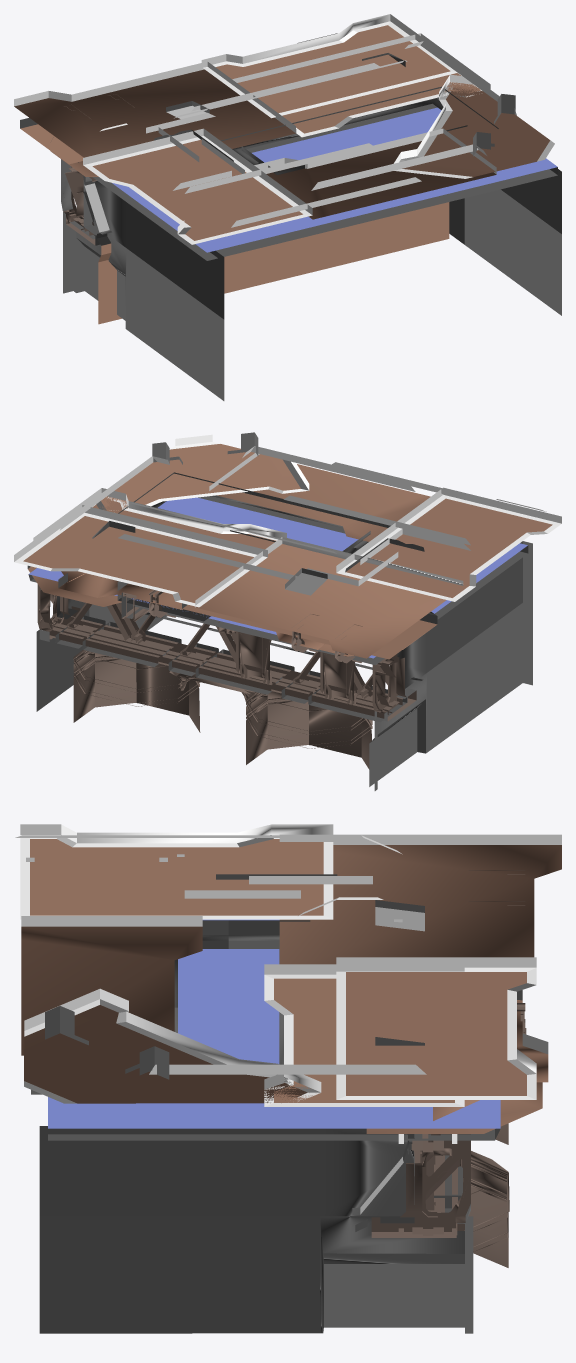
Rendered from lorville_city_plating_wall_a_b.glb.
The picture shows the model from 3 angles, top to bottom: view 1: azimuth 30°, elevation 25°; view 2: azimuth 150°, elevation 25°; view 3: azimuth 270°, elevation 25°; orthographic projection. The views are drawn at different scales.
Bounding box in the file's own units: 280 × 138 × 241.
